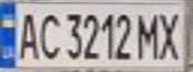1: (100, 9, 118, 60)
2: (78, 9, 100, 61), (115, 9, 136, 61)
3: (60, 8, 84, 61)
A: (12, 8, 42, 61)
C: (36, 8, 63, 61)
M: (133, 9, 163, 61)
X: (154, 7, 187, 61)
